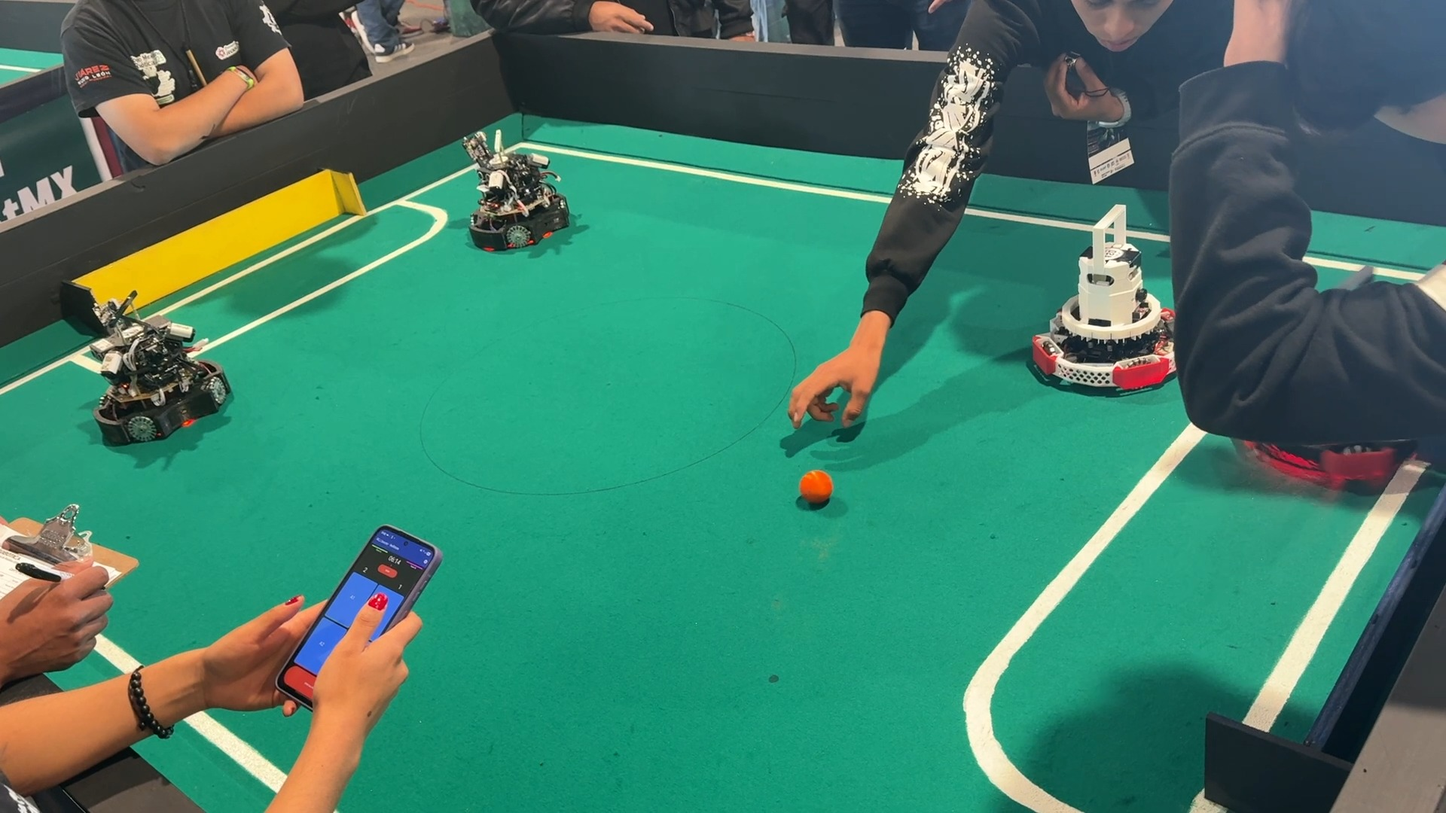Robot: (1015, 194, 1196, 411), (67, 287, 246, 470), (433, 109, 598, 273)
pelota: (793, 466, 840, 515)
